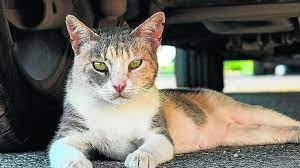cat: (45, 12, 296, 167)
